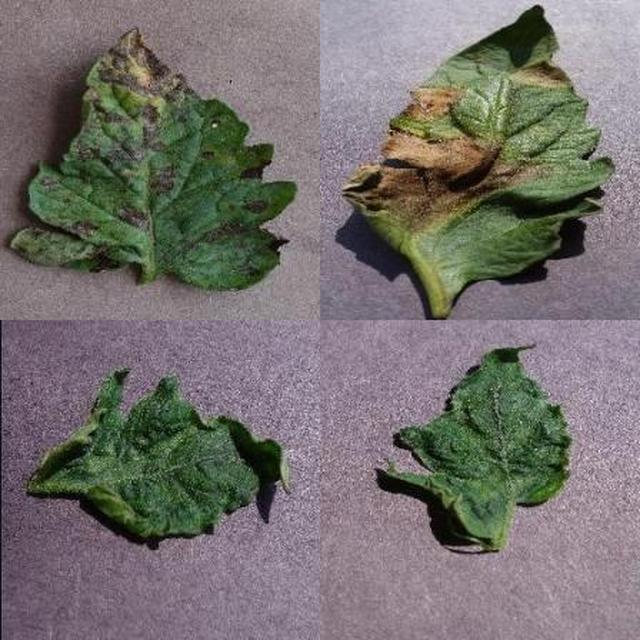Early Blight Leaf: (218, 202, 640, 640)
